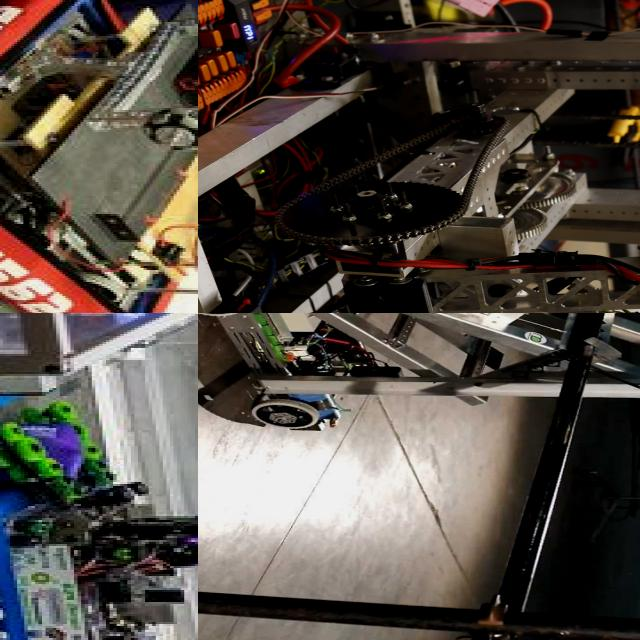FRC-Robots: (313, 33, 640, 313), (0, 0, 198, 313), (198, 313, 640, 443), (0, 418, 198, 640)
